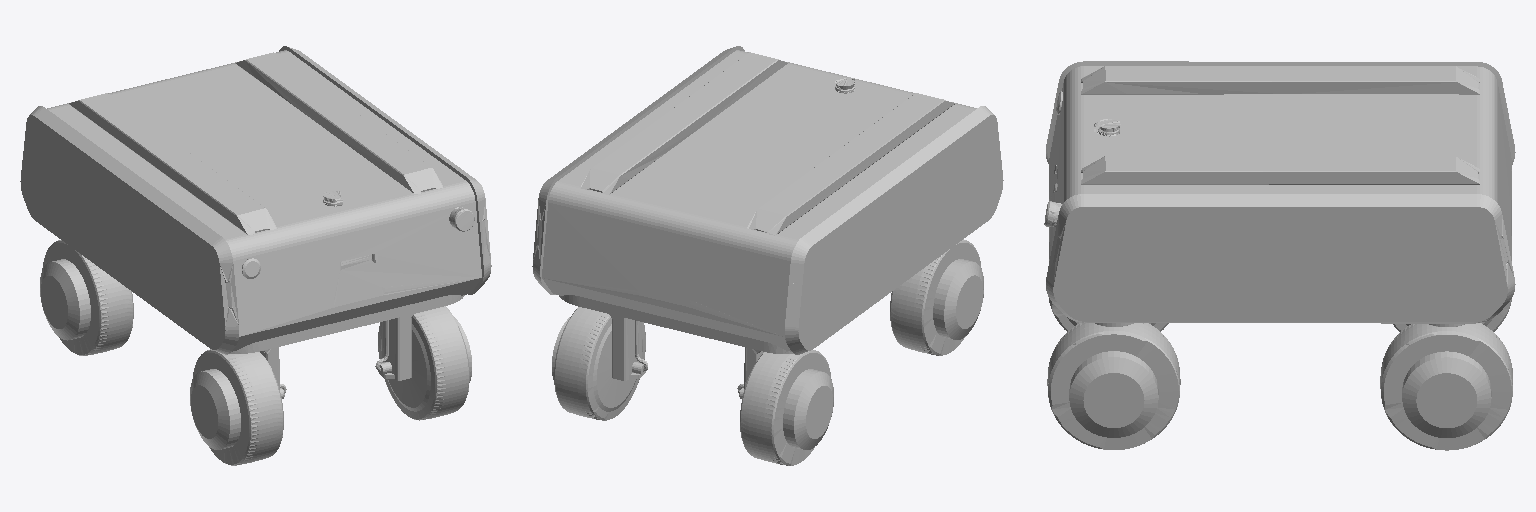
robot.urdf — yhs_chassis_description:
<robot name="yhs_chassis_description">
  <link name="base_link">
    <visual>
      <origin
        xyz="-0.34 0.275 0"
        rpy="1.57 0 0" />
      <geometry>
        <mesh
          filename="package://yhs_chassis_description/meshes/FW-mini.STL"/>
      </geometry>
      <material
        name="">
        <color
          rgba="0.8 0.8 0.8 1" />
      </material>
    </visual>
  </link>
</robot>

--- What the picture shows (computed from the rendered views, not written in the file) ---
Views: 3 orthographic renders of the robot side by side, from view 1: azimuth 30°, elevation 25°; view 2: azimuth 150°, elevation 25°; view 3: azimuth 270°, elevation 25°.
Model yhs_chassis_description with 1 links and 0 joints (none), rooted at base_link, posed all joints at 0.
Links seen in each view (by area): view 1: base_link; view 2: base_link; view 3: base_link.
Boxes of the visible links, x1,y1,x2,y2 form: base_link: (20,46,491,465); base_link: (532,46,1003,465); base_link: (1044,61,1515,450).
Bounding box of the posed robot: 0.358 × 0.4953 × 0.3182 m (x, y, z).
Meshes: 1 distinct files referenced, 1 mesh visuals loaded (1 binary STL).